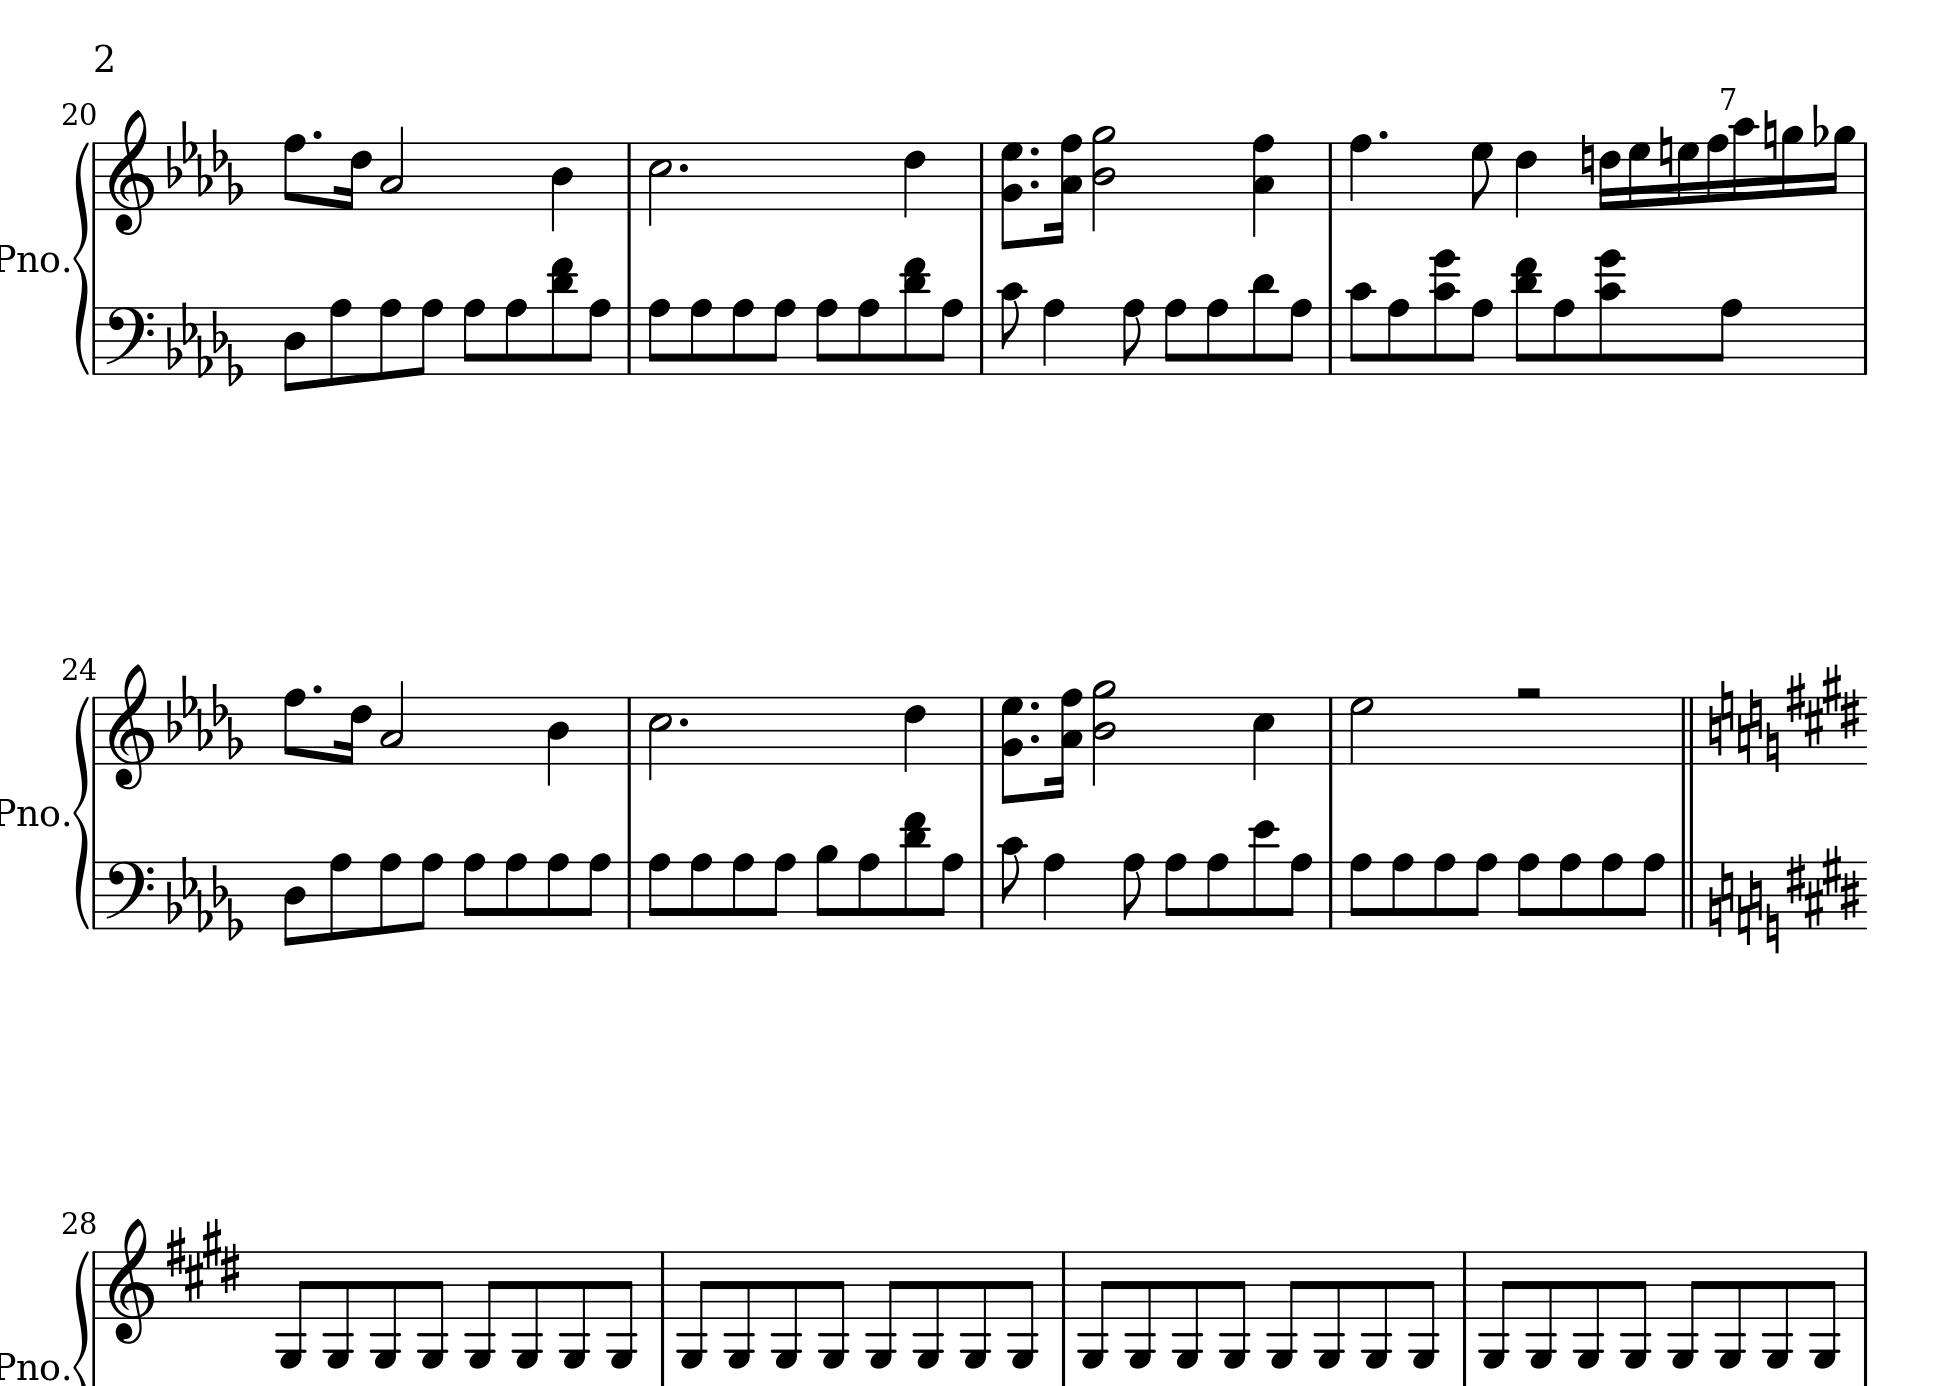0: (79, 99, 96, 126)
16_10: (1731, 115, 1756, 211)
16_3_8: (1044, 133, 1084, 244)
16_6: (334, 139, 370, 211), (334, 694, 370, 766), (1599, 139, 1621, 211)
16_7: (1627, 139, 1650, 211), (1677, 139, 1699, 211)
16_8: (1705, 132, 1728, 210)
16_9: (1824, 123, 1854, 211), (1780, 120, 1803, 211)
2: (91, 40, 114, 73), (58, 1209, 79, 1236), (60, 100, 78, 127), (60, 655, 78, 682)
2_3: (378, 124, 405, 210), (378, 679, 405, 763)
2_4_9: (1090, 123, 1119, 232)
2_5: (646, 139, 672, 226), (646, 694, 672, 781)
2_7: (1348, 694, 1375, 766)
4: (79, 655, 97, 682)
4_3_8: (1251, 133, 1275, 237)
4_4: (544, 694, 570, 787), (550, 141, 574, 232)
4_5: (1251, 694, 1275, 781)
4_6: (901, 139, 925, 217), (901, 694, 925, 772), (1515, 139, 1537, 217)
4_8: (1041, 295, 1065, 376), (1347, 132, 1371, 211), (1041, 850, 1065, 930)
7: (1719, 82, 1738, 112)
8: (79, 1207, 97, 1234)
8_-5: (274, 1246, 310, 1369), (865, 1246, 901, 1369), (1077, 1246, 1113, 1369), (1668, 1246, 1704, 1369), (465, 1246, 499, 1369), (676, 1246, 711, 1369), (1267, 1246, 1302, 1369), (1479, 1246, 1513, 1369), (1008, 1246, 1041, 1369), (322, 1246, 354, 1369), (370, 1246, 402, 1369), (417, 1246, 448, 1369), (511, 1246, 543, 1369), (607, 1246, 639, 1369), (724, 1246, 756, 1369), (913, 1246, 945, 1369), (1125, 1246, 1156, 1369), (1173, 1246, 1204, 1369), (1314, 1246, 1345, 1369), (1362, 1246, 1393, 1369), (1410, 1246, 1441, 1369), (1527, 1246, 1558, 1369), (1573, 1246, 1605, 1369), (1620, 1246, 1651, 1369), (559, 1246, 589, 1369), (772, 1246, 802, 1369), (961, 1246, 991, 1369), (1221, 1246, 1251, 1369), (1716, 1246, 1746, 1369), (1764, 1246, 1794, 1369), (1810, 1246, 1840, 1369), (819, 1248, 849, 1369)
8_10: (997, 280, 1024, 376), (1347, 280, 1374, 376), (999, 835, 1026, 931)
8_10_14: (1594, 244, 1627, 376), (1428, 246, 1461, 373)
8_11: (1249, 270, 1276, 376)
8_11_13: (1510, 256, 1542, 378), (898, 256, 930, 376), (898, 811, 930, 930), (547, 256, 577, 376)
8_12: (1249, 817, 1278, 930)
8_2_7: (1000, 694, 1026, 805), (1000, 141, 1026, 250)
8_3_8: (1044, 688, 1083, 799)
8_4: (280, 859, 306, 948), (280, 304, 304, 393)
8_4_9: (1092, 678, 1119, 787)
8_7: (1470, 139, 1494, 210)
8_8: (1708, 295, 1743, 376), (577, 297, 610, 376), (1633, 850, 1666, 930), (411, 850, 442, 931), (411, 297, 442, 376), (763, 297, 795, 376), (931, 297, 963, 376), (1281, 297, 1312, 376), (579, 850, 610, 930), (763, 850, 795, 930), (931, 850, 963, 930), (1281, 850, 1312, 930), (1467, 850, 1498, 930), (1464, 295, 1494, 376), (325, 295, 351, 387), (325, 850, 351, 940), (376, 850, 402, 934), (729, 295, 754, 376), (813, 295, 838, 376), (1120, 295, 1146, 376), (280, 685, 306, 766), (460, 850, 486, 931), (544, 850, 570, 931), (1120, 850, 1146, 931), (1204, 850, 1230, 931), (1389, 850, 1414, 931), (1431, 850, 1456, 931), (1515, 850, 1540, 931), (1557, 850, 1582, 931), (1599, 850, 1624, 931), (376, 295, 400, 381), (460, 297, 486, 376), (502, 297, 528, 376), (855, 297, 880, 376), (1162, 297, 1188, 376), (1162, 850, 1188, 930), (1347, 850, 1372, 930), (1551, 295, 1575, 376), (502, 850, 526, 931), (646, 850, 670, 931), (688, 850, 712, 931), (730, 850, 754, 931), (855, 850, 879, 931), (282, 132, 306, 211), (646, 297, 670, 376), (688, 297, 712, 376), (1204, 297, 1228, 376), (1386, 297, 1410, 376)
8_9: (813, 843, 838, 931)
A_F: (165, 853, 244, 937)
Brace: (72, 139, 91, 375), (72, 693, 91, 928)
D_F: (163, 118, 244, 204), (163, 672, 244, 757), (163, 298, 243, 382)
Double_barline: (1677, 694, 1699, 763), (1677, 859, 1698, 928)
E_S: (1783, 658, 1864, 750), (1788, 843, 1867, 928), (163, 1219, 241, 1302)
Fclef: (102, 304, 153, 376), (103, 858, 154, 930)
Flat: (1810, 102, 1828, 151)
Gclef: (106, 1215, 157, 1345), (106, 661, 154, 790), (106, 108, 154, 235)
Natural: (1656, 124, 1674, 178), (1762, 108, 1779, 163), (1579, 130, 1594, 186), (1708, 885, 1723, 939), (1719, 859, 1734, 913), (1737, 895, 1752, 949), (1764, 900, 1779, 954), (1749, 867, 1764, 921), (1765, 721, 1780, 775), (1737, 712, 1752, 766), (1749, 685, 1764, 739), (1708, 705, 1723, 759), (1720, 679, 1735, 733)
Pno: (1, 1347, 60, 1384), (1, 793, 61, 829), (1, 240, 60, 276)
Rests2: (1512, 681, 1545, 703)
Single_barline: (1321, 859, 1341, 928), (652, 1251, 672, 1318), (1054, 1251, 1074, 1318), (1455, 1251, 1474, 1318), (1857, 1249, 1875, 1320), (619, 859, 637, 928), (619, 306, 637, 373), (1323, 696, 1341, 763), (973, 142, 991, 208), (1323, 142, 1341, 208), (1857, 307, 1875, 373), (973, 697, 991, 763), (621, 142, 637, 210), (973, 859, 990, 927), (973, 307, 990, 373), (1323, 307, 1339, 373), (621, 697, 637, 763), (1858, 142, 1873, 208), (88, 1249, 102, 1318), (88, 142, 102, 208), (88, 307, 102, 373), (88, 697, 102, 763), (88, 861, 102, 927)
dot: (1377, 127, 1392, 142), (1027, 697, 1042, 712), (676, 159, 690, 175), (310, 679, 324, 696), (676, 714, 690, 730), (310, 126, 324, 141), (1027, 144, 1041, 159), (1029, 730, 1042, 745), (1029, 177, 1041, 192)
